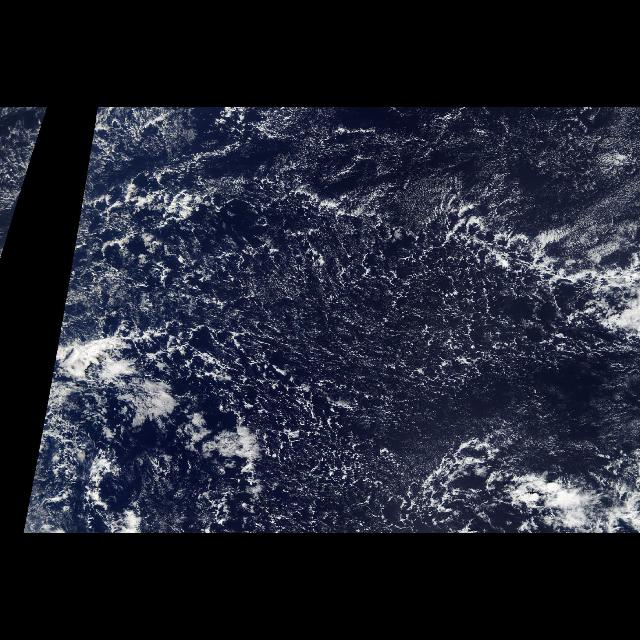Gravel: (70, 117, 602, 523)
Sugar: (22, 111, 640, 534), (0, 112, 48, 260)
